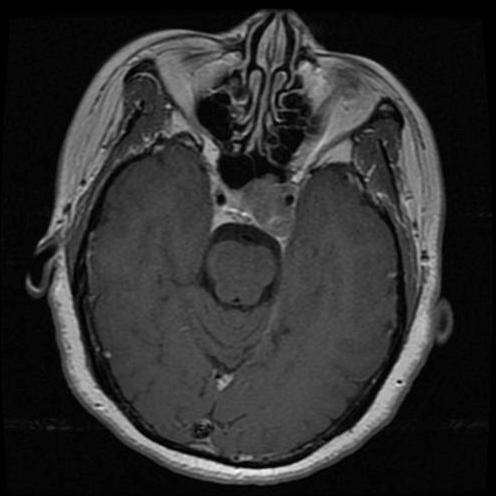Tumour-Pituitary: (208, 174, 297, 244)
